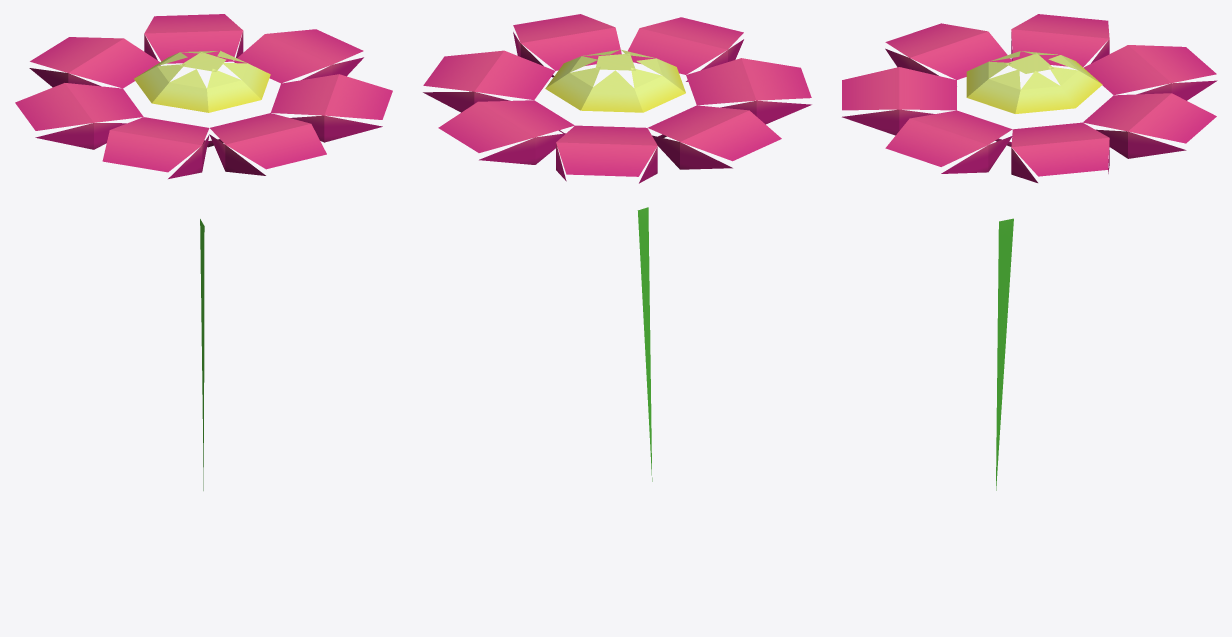
Rendered from Flower.glb.
The picture shows the model from 3 angles, left to right: view 1: azimuth 30°, elevation 25°; view 2: azimuth 150°, elevation 25°; view 3: azimuth 270°, elevation 25°; orthographic projection. The views are drawn at different scales.
Visible parts, largest first — view 1: Flower; view 2: Flower; view 3: Flower.
Part boxes in pixels (<box>): Flower: <box>15,14,392,490</box>; Flower: <box>423,14,811,481</box>; Flower: <box>842,14,1217,490</box>.
Size of the model in its own units: 0.7216 by 1.14 by 0.7035.
1 material, 1 textured.
